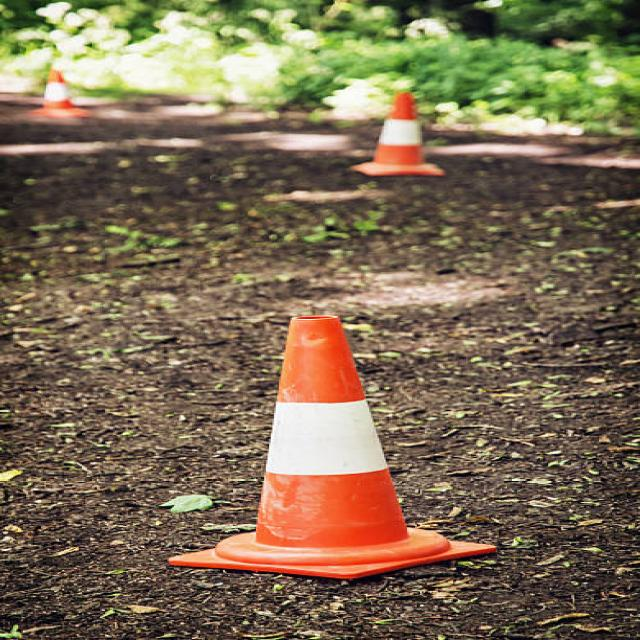Traffic Cone: (170, 274, 514, 596), (331, 80, 470, 192)
